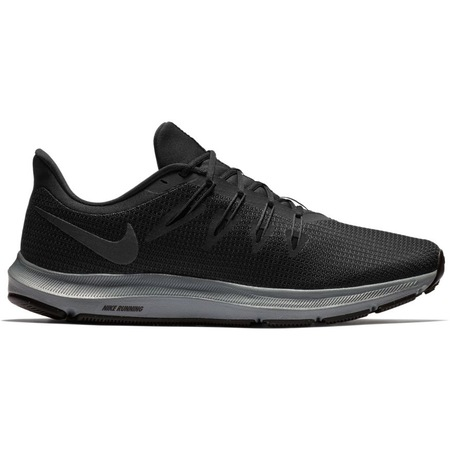nike: (33, 205, 142, 268)
